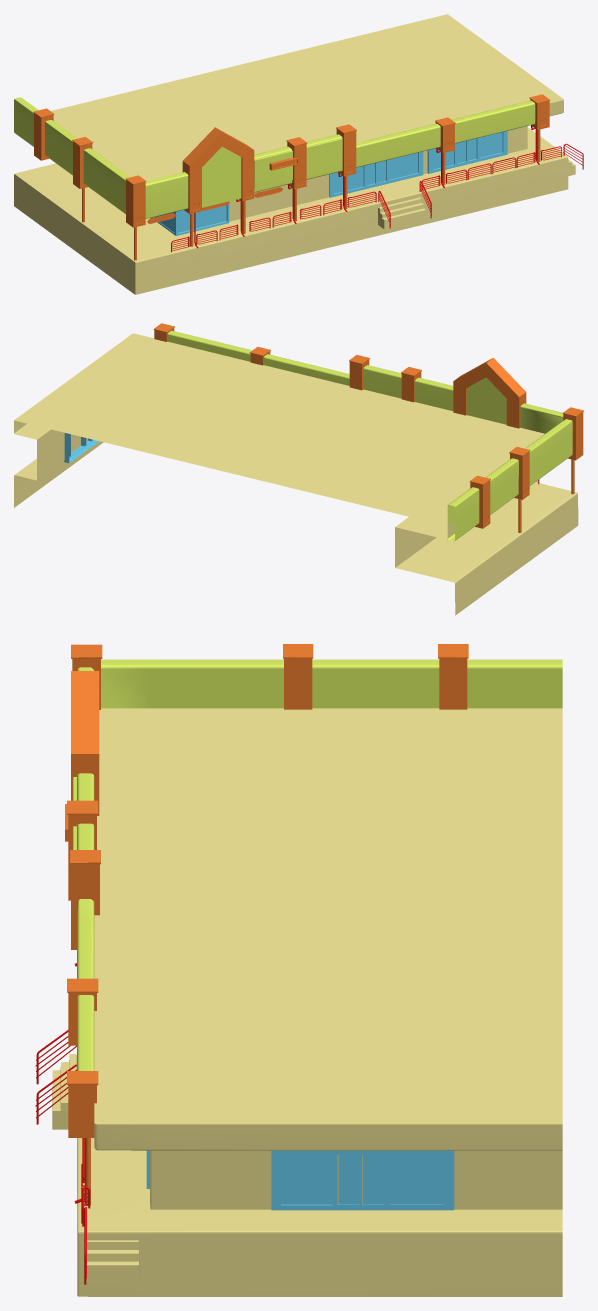
File: WorldMarket.fbx
The picture shows the model from 3 angles, top to bottom: view 1: azimuth 30°, elevation 25°; view 2: azimuth 150°, elevation 25°; view 3: azimuth 270°, elevation 25°; orthographic projection. The views are drawn at different scales.
Parts seen in each view (by area): view 1: WorldMarket_building_geo, WorldMarket_balcony_geo, WorldMarket_columns_geo, WorldMarket_glass_geo, WorldMarket_railings_geo; view 2: WorldMarket_building_geo, WorldMarket_balcony_geo, WorldMarket_columns_geo, WorldMarket_glass_geo; view 3: WorldMarket_building_geo, WorldMarket_balcony_geo, WorldMarket_columns_geo, WorldMarket_glass_geo, WorldMarket_railings_geo.
Boxes of the visible parts, bbox=[...] form: WorldMarket_building_geo: bbox=[14, 14, 575, 294]; WorldMarket_balcony_geo: bbox=[14, 97, 535, 218]; WorldMarket_columns_geo: bbox=[33, 94, 550, 260]; WorldMarket_glass_geo: bbox=[151, 131, 507, 235]; WorldMarket_railings_geo: bbox=[171, 125, 583, 252]; WorldMarket_building_geo: bbox=[14, 333, 578, 615]; WorldMarket_balcony_geo: bbox=[167, 330, 572, 541]; WorldMarket_columns_geo: bbox=[153, 323, 583, 532]; WorldMarket_glass_geo: bbox=[64, 433, 98, 463]; WorldMarket_building_geo: bbox=[52, 708, 562, 1296]; WorldMarket_balcony_geo: bbox=[73, 659, 562, 1070]; WorldMarket_columns_geo: bbox=[65, 644, 468, 1206]; WorldMarket_glass_geo: bbox=[146, 1150, 454, 1210]; WorldMarket_railings_geo: bbox=[35, 963, 90, 1284].
Bounding box in the file's own units: 5404 × 1622 × 2711.
